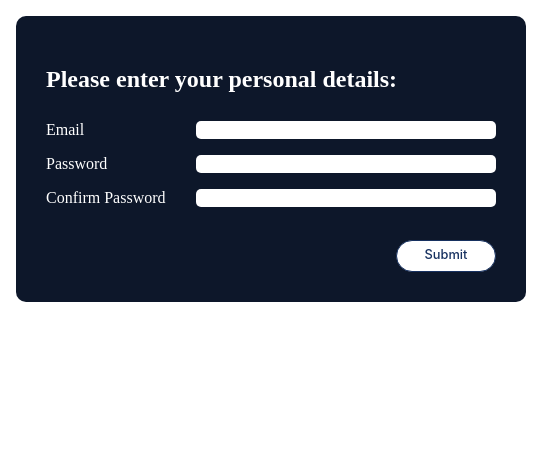
it: Register Component › Renders "please enter a valid email" as text
This screenshot has width=543, height=469.
Type "test.com" into the field named "email" at (346, 130), box [196,121,496,139]
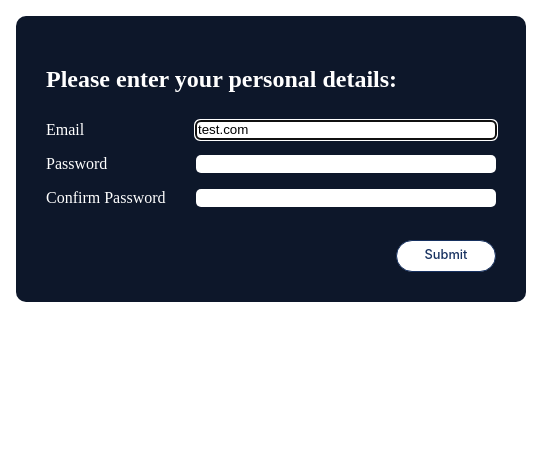
Click the button "Submit" at (446, 256), box [396,240,496,272]
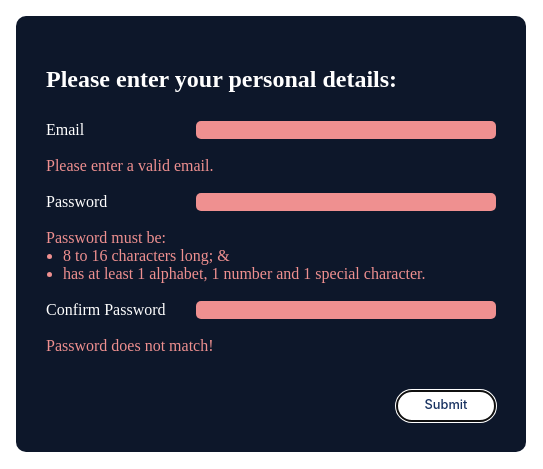
Check: the text "Please enter a valid email." is shown, box [46,157,214,174]
